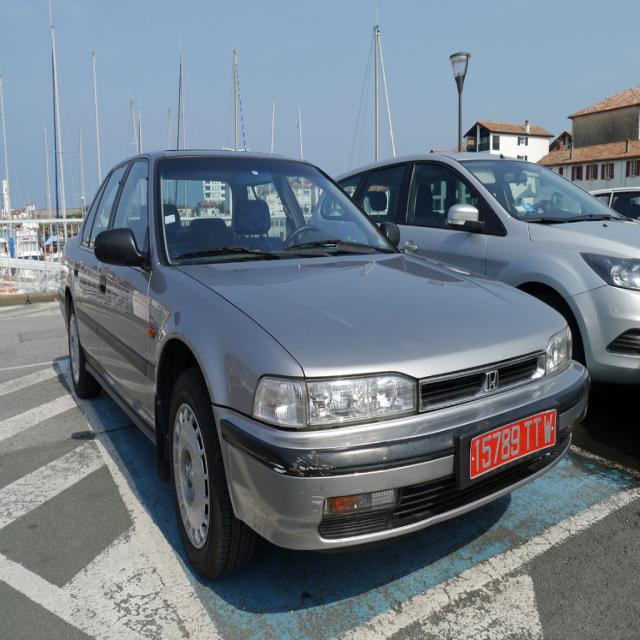car: (51, 143, 560, 566), (303, 146, 639, 384)
